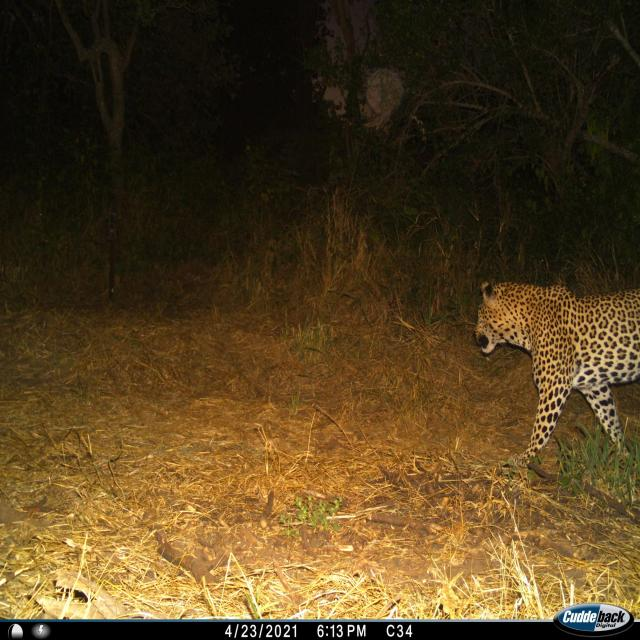Leopard: (474, 269, 635, 497)
